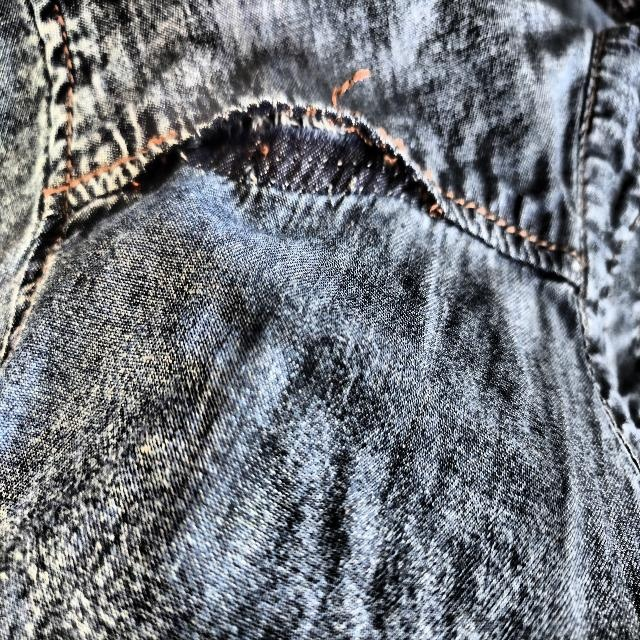seam: (153, 37, 463, 279)
